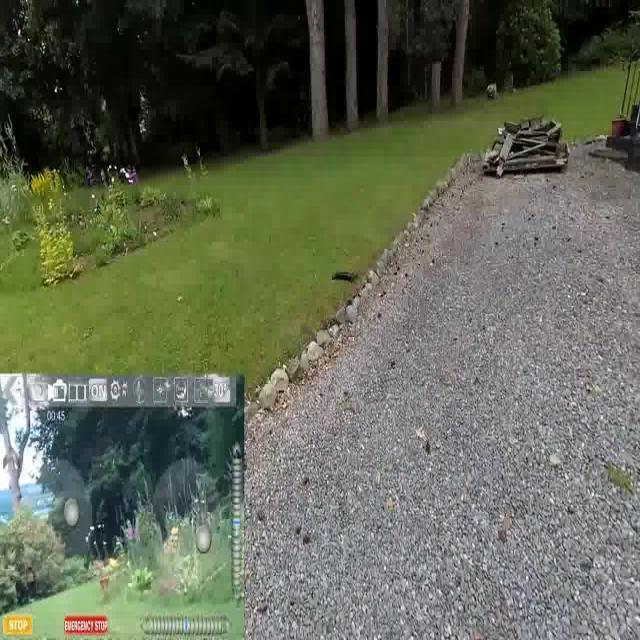drones: (326, 251, 364, 294)
